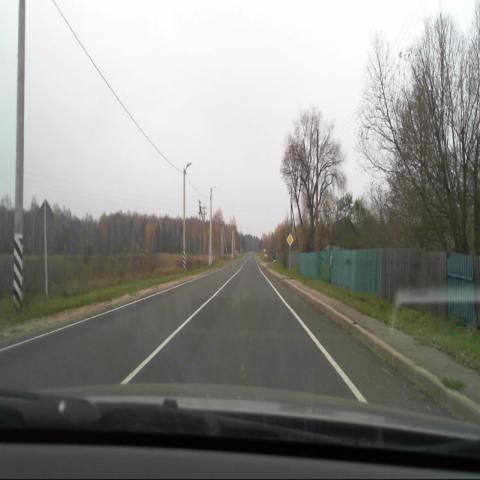2_1: (286, 234, 293, 247)
